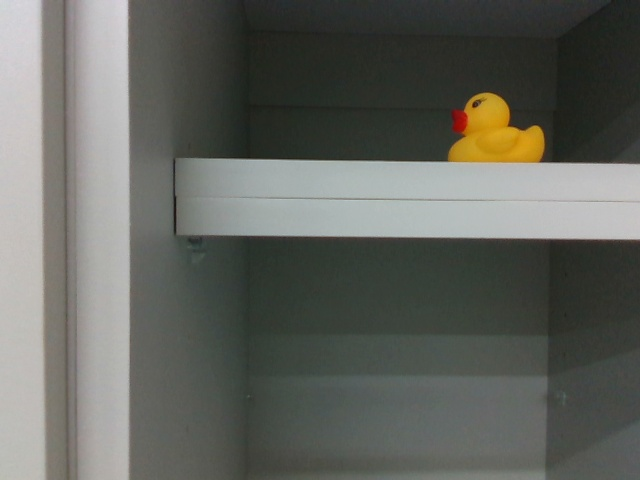duck: (442, 85, 548, 166)
